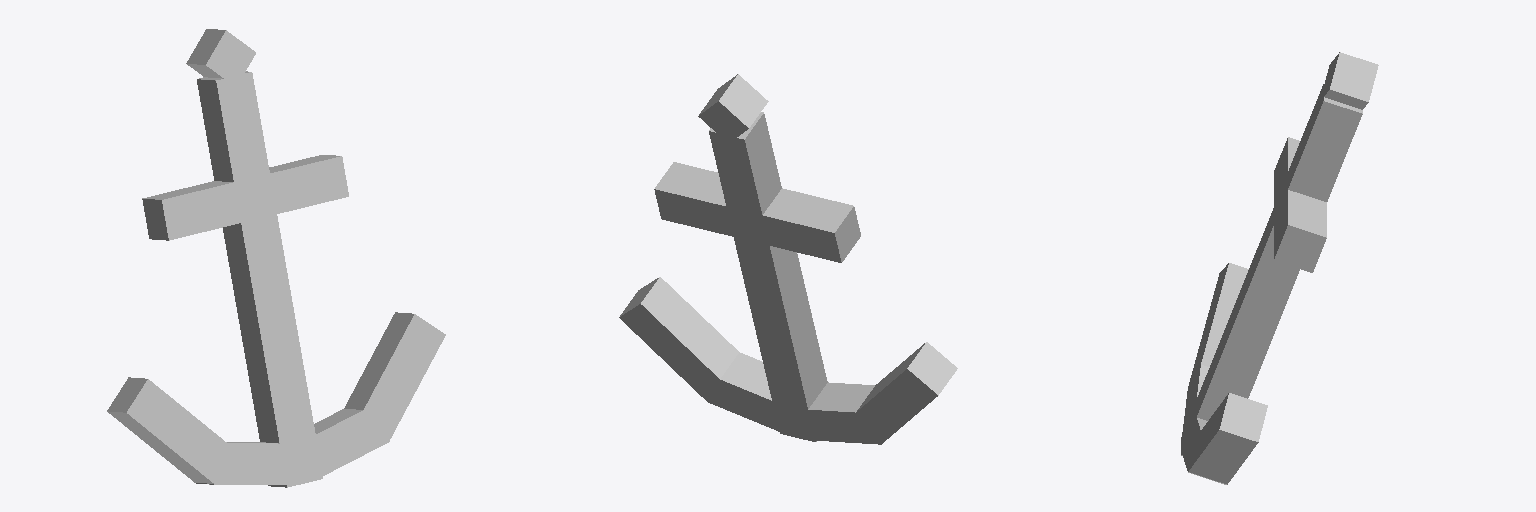
The model's file is ship_anchor.obj.
3 views of the same model, side by side, from view 1: azimuth 30°, elevation 25°; view 2: azimuth 150°, elevation 25°; view 3: azimuth 270°, elevation 25° (orthographic).
Visible parts, largest first — view 1: cube; view 2: cube; view 3: cube.
Boxes of the visible parts, <box> form: cube: <box>107,29,445,487</box>; cube: <box>619,74,957,444</box>; cube: <box>1181,52,1378,484</box>.
Size of the model in its own units: 0.5537 by 0.6751 by 0.2967.